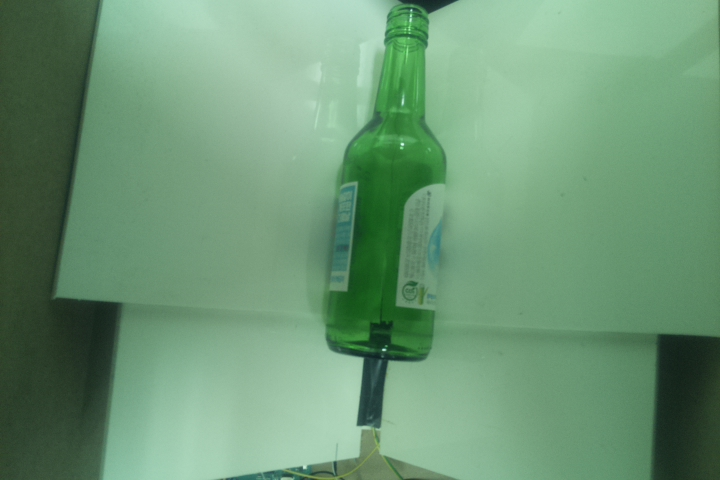soju: (323, 3, 446, 362)
